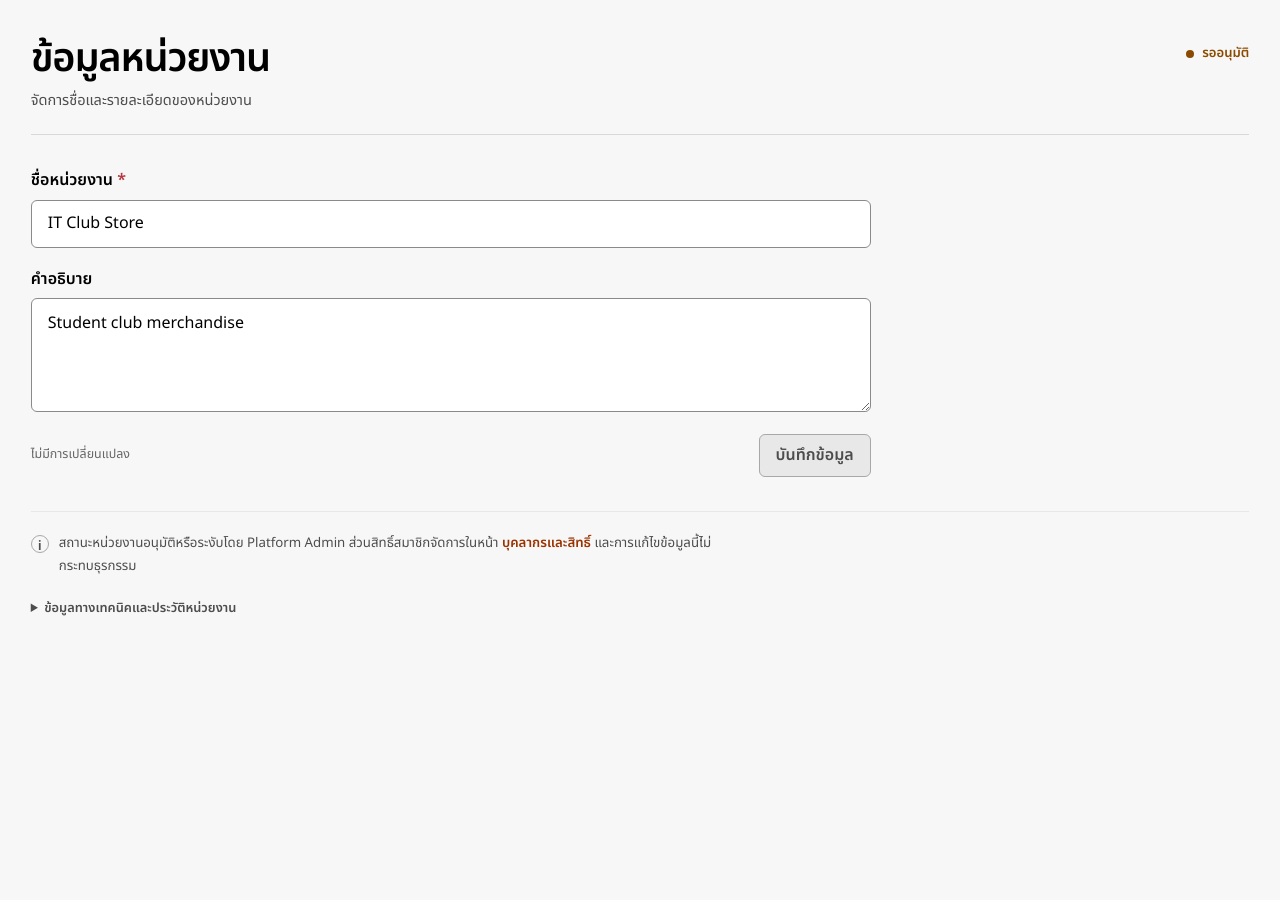
Test: OrganizationSettingsView › loads the organization and saves only editable organization fields
Replace the text in the field labelled "ชื่อหน่วยงาน" with "Updated Club Store" at {"x": 451, "y": 224}, box left=31, top=200, right=871, bottom=248
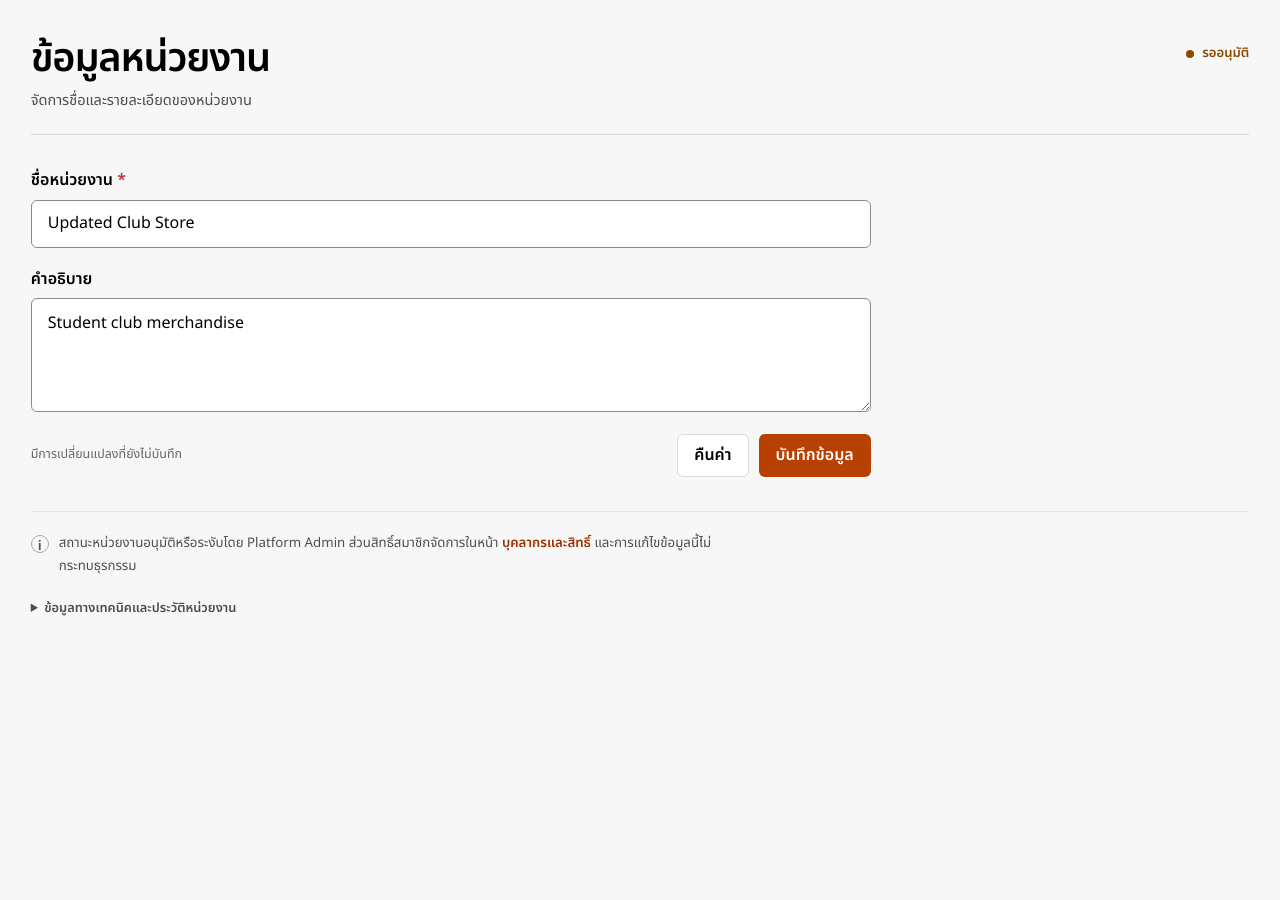
Replace the text in the text box labelled "คำอธิบาย" with "Updated description" at {"x": 451, "y": 355}, box left=31, top=298, right=871, bottom=412
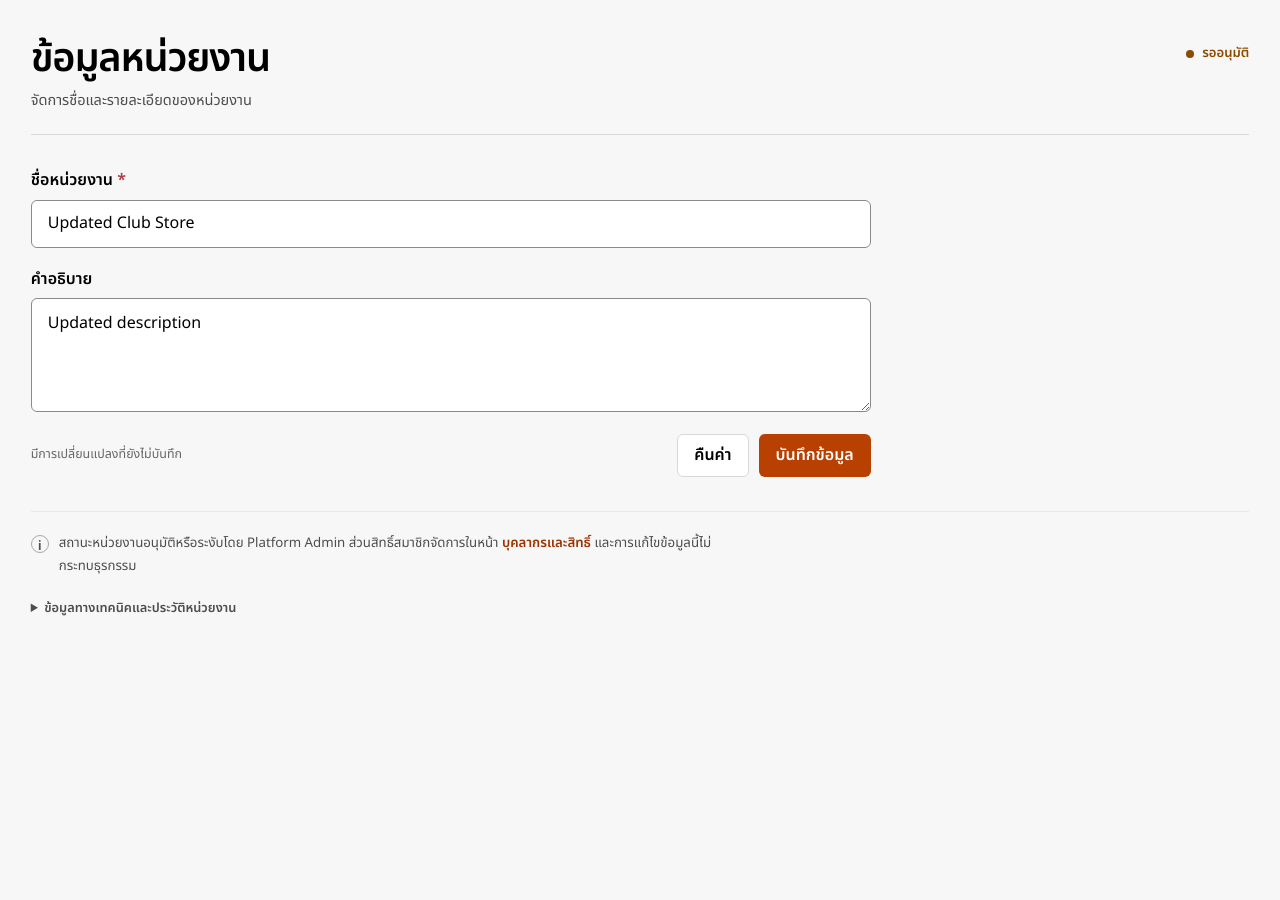
Click the button "บันทึกข้อมูล".
click(815, 456)  # box left=758, top=434, right=871, bottom=477
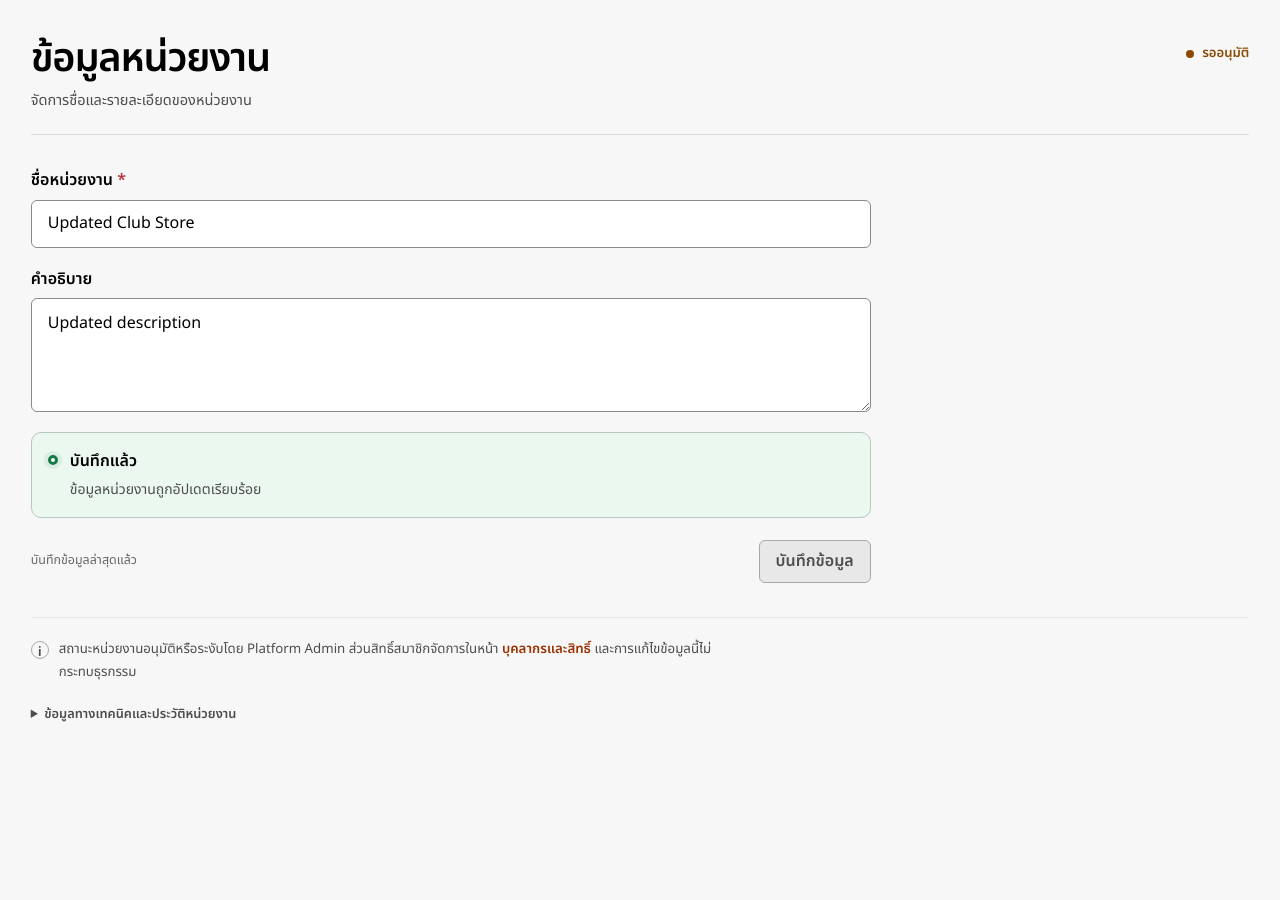
Expected: the text "รออนุมัติ" is shown, left=1186, top=43, right=1249, bottom=63
Expected: the text "ข้อมูลหน่วยงานถูกอัปเดตเรียบร้อย" is shown, left=70, top=479, right=261, bottom=500
